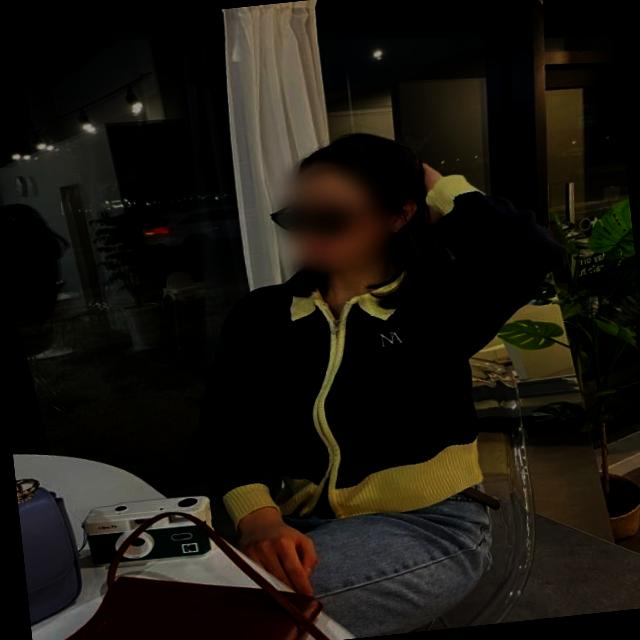cardigan: (163, 162, 592, 538)
denimpants: (202, 463, 513, 640)
